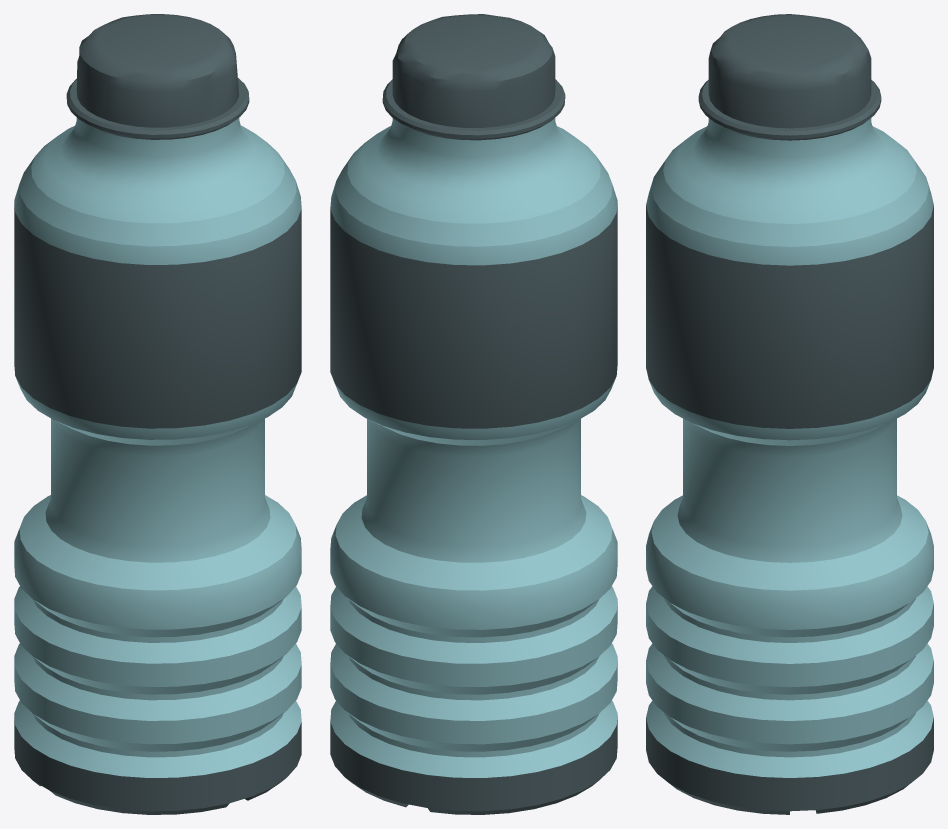
Rendered from Bebida.fbx.
3 views of the same model, side by side, from view 1: azimuth 30°, elevation 25°; view 2: azimuth 150°, elevation 25°; view 3: azimuth 270°, elevation 25° (orthographic).
Visible parts, largest first — view 1: Bebida; view 2: Bebida; view 3: Bebida.
Boxes of the visible parts, x1,y1,x2,y2 form: Bebida: (14,14,301,814); Bebida: (330,14,617,814); Bebida: (646,14,933,814).
Bounding box in the file's own units: 12.15 × 33.33 × 12.15.
